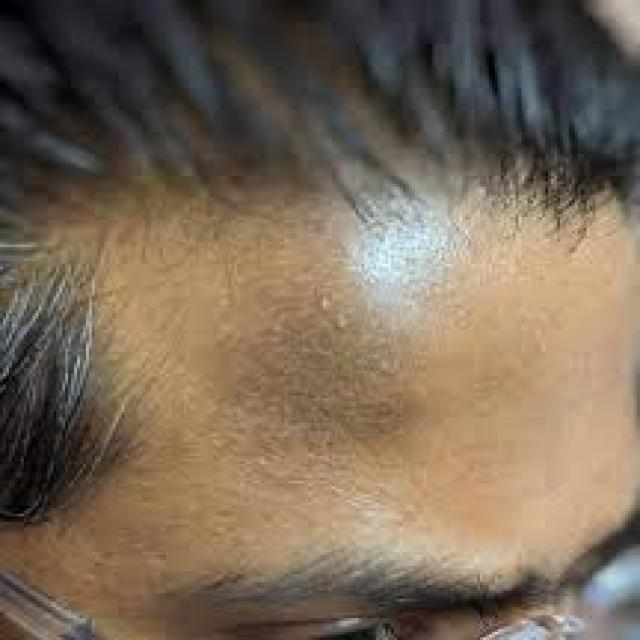pigmentation: (268, 290, 414, 476)
